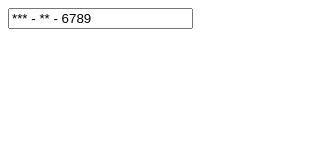
Test case: PatternInput › reveals the real value when an obfuscated field gains focus
The image size is (320, 160).
Click the field. click: (100, 18)
box: top-left (8, 8), bottom-right (193, 29)
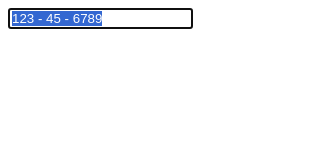
Expected: the field holds "123 - 45 - 6789", top-left (8, 8), bottom-right (193, 29)
